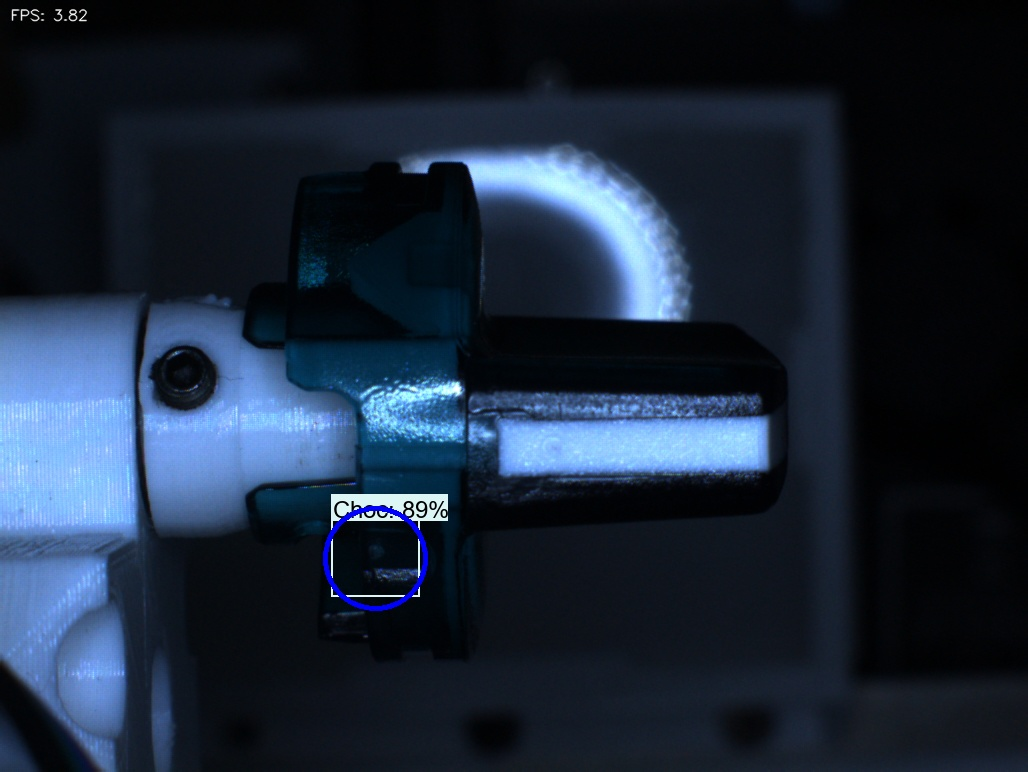DentOk: (320, 222, 398, 324)
